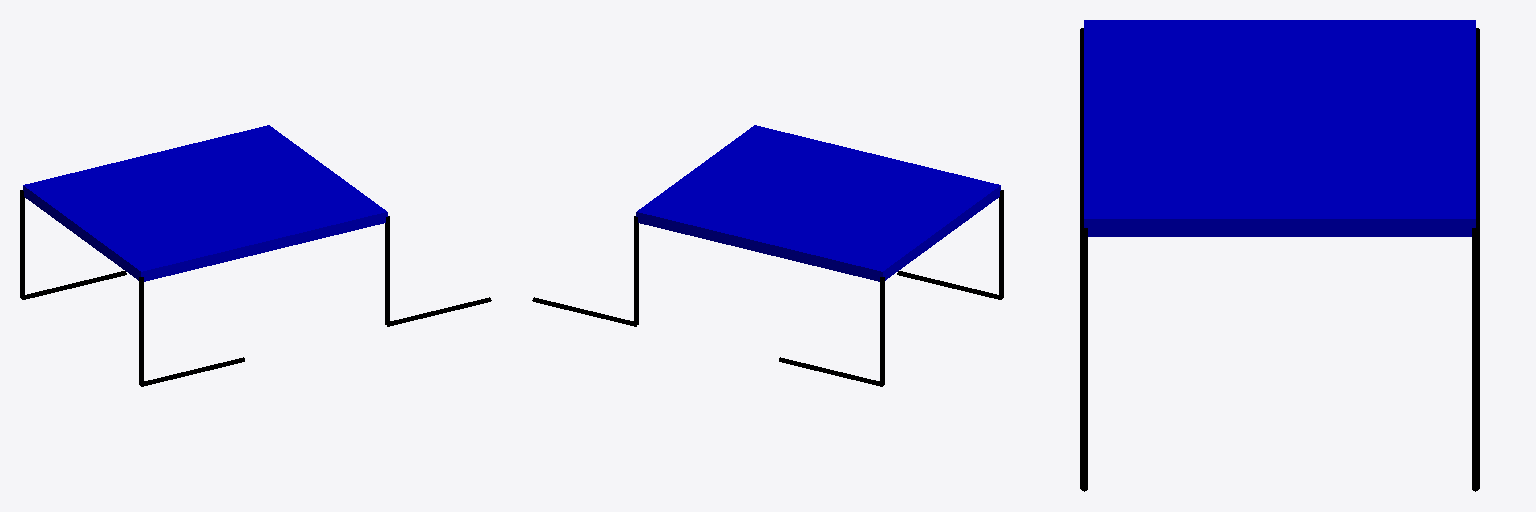
The robot description file, URDF, robot "Nybble":
<?xml version="1.0"?>
<robot name="Nybble">

    <material name="blue">
        <color rgba="0 0 0.8 1"/>
    </material>
    <material name="black">
        <color rgba="0 0 0 1"/>
    </material>

    <link name="torso">       
        <visual>
            <geometry>
                <box size="0.12 0.10 0.005"/>
            </geometry>
            <material name="blue"/>
        </visual>
      
        <collision>
              <geometry>
                    <box size="0.12 0.10 0.005"/>
              </geometry>
              <origin xyz="0 0 0"/>
        </collision>

        <inertial>
              <origin xyz="0 0 0"/>
              <mass value="0.2"/>
              <inertia ixx="0.0002" iyy="0.0003"  izz="0.0004" ixy="0.0" ixz="0.0" iyz="0.0"/>
        </inertial>
    </link>


    <link name="left_upper_arm">
        <visual>
            <origin xyz="0.00 .00 -0.025" rpy="0 0 0" />
            <geometry>
              <cylinder radius="0.001" length="0.05"/>
            </geometry>
            <material name="black"/>
        </visual>

        <collision>
            <geometry>
              <cylinder radius="0.001" length="0.05"/>
            </geometry>
            <origin xyz="0.00 .00 -0.025" rpy="0 0 0" />
        </collision>

        <inertial>
            <origin xyz=".0 .00 0.0" rpy="0 0 0" />
            <mass value="0.025"/>
            <inertia ixx="0.0" ixy="0.0" ixz="0.0" iyy="0.0" iyz="0.0" izz="0.0"/>
        </inertial>
    </link>   

    <link name="right_upper_arm">
            <visual>
                <origin xyz="0.00 .00 -0.025" rpy="0 0 0" />
                <geometry>
                  <cylinder radius="0.001" length="0.05"/>
                </geometry>
                <material name="black"/>
            </visual>

            <collision>
                <geometry>
                  <cylinder radius="0.001" length="0.05"/>
                </geometry>
                <origin xyz="0.00 .00 -0.025" rpy="0 0 0" />
            </collision>

            <inertial>
                <origin xyz=".0 .00 0.0" rpy="0 0 0" />
                <mass value="0.025"/>
                <inertia ixx="0.0" ixy="0.0" ixz="0.0" iyy="0.0" iyz="0.0" izz="0.0"/>
            </inertial>
        </link>   



    <link name="left_lower_arm">
        <visual>
            <origin xyz="0.00 .00 -0.025" rpy="0 0 0" />
            <geometry>
              <cylinder radius="0.001" length="0.05"/>
            </geometry>
            <material name="black"/>
        </visual>

        <collision>
            <geometry>
              <cylinder radius="0.001" length="0.05"/>
            </geometry>
            <origin xyz="0.00 .00 -0.025" rpy="0 0 0" />
        </collision>


        <inertial>
            <origin xyz=".0 .00 0.0" rpy="0 0 0" />
            <mass value="0.075"/>
            <inertia ixx="0.0" ixy="0.0" ixz="0.0" iyy="0.0" iyz="0.0" izz="0.0"/>
        </inertial>
    </link>   




    

    <link name="right_lower_arm">
        <visual>
            <origin xyz="0.00 .00 -0.025" rpy="0 0 0" />
            <geometry>
              <cylinder radius="0.001" length="0.05"/>
            </geometry>
            <material name="black"/>
        </visual>

        <collision>
            <geometry>
              <cylinder radius="0.001" length="0.05"/>
            </geometry>
            <origin xyz="0.00 .00 -0.025" rpy="0 0 0" />
        </collision>

        <inertial>
            <origin xyz=".0 .00 0.0" rpy="0 0 0" />
            <mass value="0.075"/>
            <inertia ixx="0.0" ixy="0.0" ixz="0.0" iyy="0.0" iyz="0.0" izz="0.0"/>
        </inertial>
    </link>   

    <link name="right_upper_leg">
        <visual>
            <origin xyz="0.00 .00 -0.025" rpy="0 0 0" />
            <geometry>
              <cylinder radius="0.001" length="0.05"/>
            </geometry>
            <material name="black"/>
        </visual>

        <collision>
            <geometry>
              <cylinder radius="0.001" length="0.05"/>
            </geometry>
            <origin xyz="0.00 .00 -0.025" rpy="0 0 0" />
        </collision>

        <inertial>
            <origin xyz=".0 .00 0.0" rpy="0 0 0" />
            <mass value="0.025"/>
            <inertia ixx="0.0" ixy="0.0" ixz="0.0" iyy="0.0" iyz="0.0" izz="0.0"/>
        </inertial>
    </link>   

    <link name="right_lower_leg">
        <visual>
            <origin xyz="0.00 .00 -0.025" rpy="0 0 0" />
            <geometry>
              <cylinder radius="0.001" length="0.05"/>
            </geometry>
            <material name="black"/>
        </visual>

        <collision>
            <geometry>
              <cylinder radius="0.001" length="0.05"/>
            </geometry>
            <origin xyz="0.00 .00 -0.025" rpy="0 0 0" />
        </collision>

        <inertial>
            <origin xyz=".0 .00 0.0" rpy="0 0 0" />
            <mass value="0.075"/>
            <inertia ixx="0.0" ixy="0.0" ixz="0.0" iyy="0.0" iyz="0.0" izz="0.0"/>
        </inertial>
    </link>   


    <link name="left_upper_leg">
        <visual>
            <origin xyz="0.00 .00 -0.025" rpy="0 0 0" />
            <geometry>
              <cylinder radius="0.001" length="0.05"/>
            </geometry>
            <material name="black"/>
        </visual>

        <collision>
            <geometry>
              <cylinder radius="0.001" length="0.05"/>
            </geometry>
            <origin xyz="0.00 .00 -0.025" rpy="0 0 0" />
        </collision>

        <inertial>
            <origin xyz=".0 .00 0.0" rpy="0 0 0" />
            <mass value="0.025"/>
            <inertia ixx="0.0" ixy="0.0" ixz="0.0" iyy="0.0" iyz="0.0" izz="0.0"/>
        </inertial>
    </link>   

    <link name="left_lower_leg">
        <visual>
            <origin xyz="0.00 .00 -0.025" rpy="0 0 0" />
            <geometry>
              <cylinder radius="0.001" length="0.05"/>
            </geometry>
            <material name="black"/>
        </visual>

        <collision>
            <geometry>
              <cylinder radius="0.001" length="0.05"/>
            </geometry>
            <origin xyz="0.00 .00 -0.025" rpy="0 0 0" />
        </collision>

        <inertial>
            <origin xyz=".0 .00 0.0" rpy="0 0 0" />
            <mass value="0.075"/>
            <inertia ixx="0.0" ixy="0.0" ixz="0.0" iyy="0.0" iyz="0.0" izz="0.0"/>
        </inertial>
    </link>   




    <joint name="shoulder_left" type="revolute">
          <axis xyz="0 1 0"/>
          <origin xyz="0.06 0.05 0" rpy="0 0 0"/>
          <parent link="torso"/>
          <child link="left_upper_arm"/>
          <limit effort="0" lower="-1.57" upper="1.57" velocity="0"/>
    </joint>

    <joint name="shoulder_right" type="revolute">
          <axis xyz="0 1 0"/>
          <origin xyz="0.06 -0.05 0" rpy="0 0 0"/>
          <parent link="torso"/>
          <child link="right_upper_arm"/>
          <limit effort="0" lower="-1.57" upper="1.57" velocity="0"/>
    </joint>

    <joint name="hip_right" type="revolute">
          <axis xyz="0 1 0"/>
          <origin xyz="-0.06 -0.05 0" rpy="0 0 0"/>
          <parent link="torso"/>
          <child link="right_upper_leg"/>
          <limit effort="0" lower="-1.57" upper="1.57" velocity="0"/>
    </joint>

    <joint name="hip_left" type="revolute">
          <axis xyz="0 1 0"/>
          <origin xyz="-0.06 0.05 0" rpy="0 0 0"/>
          <parent link="torso"/>
          <child link="left_upper_leg"/>
          <limit effort="0" lower="-1.57" upper="1.57" velocity="0"/>
    </joint>

    <joint name="elbow_left" type="revolute">
          <axis xyz="0 1 0"/>
          <origin xyz="0.00 0.00 -0.05" rpy="0 -1.57 0"/>
          <parent link="left_upper_arm"/>
          <child link="left_lower_arm"/>
          <limit effort="0" lower="-1.57" upper="1.57" velocity="0"/>
    </joint>

    <joint name="elbow_right" type="revolute">
          <axis xyz="0 1 0"/>
          <origin xyz="0.00 0.00 -0.05" rpy="0 -1.57 0"/>
          <parent link="right_upper_arm"/>
          <child link="right_lower_arm"/>
          <limit effort="0" lower="-1.57" upper="1.57" velocity="0"/>
    </joint>


    <joint name="knee_right" type="revolute">
          <axis xyz="0 1 0"/>
          <origin xyz="0.00 0.00 -0.05" rpy="0 -1.57 0"/>
          <parent link="right_upper_leg"/>
          <child link="right_lower_leg"/>
          <limit effort="0" lower="-1.57" upper="1.57" velocity="0"/>
    </joint>   

    <joint name="knee_left" type="revolute">
          <axis xyz="0 1 0"/>
          <origin xyz="0.00 0.00 -0.05" rpy="0 -1.57 0"/>
          <parent link="left_upper_leg"/>
          <child link="left_lower_leg"/>
          <limit effort="0" lower="-1.57" upper="1.57" velocity="0"/>
    </joint>    

</robot>

--- What the picture shows (computed from the rendered views, not written in the file) ---
The picture shows the robot from 3 angles, left to right: view 1: azimuth 30°, elevation 25°; view 2: azimuth 150°, elevation 25°; view 3: azimuth 270°, elevation 25°; orthographic projection.
Robot: Nybble — 9 links, 8 joints (8 revolute); root link torso; default pose: all joints at 0.
Links seen in each view (by area): view 1: torso, right_upper_leg, right_upper_arm, left_upper_leg; view 2: torso, left_upper_leg, left_upper_arm, right_upper_leg; view 3: torso, left_upper_arm, right_upper_arm, right_upper_leg, left_upper_leg, left_lower_arm, right_lower_arm.
Boxes of the visible links, x1,y1,x2,y2 form: torso: (23, 125, 387, 281); right_upper_leg: (139, 277, 143, 385); right_upper_arm: (385, 216, 389, 325); left_upper_leg: (20, 190, 24, 298); torso: (636, 125, 1000, 281); left_upper_leg: (880, 277, 884, 385); left_upper_arm: (634, 216, 638, 325); right_upper_leg: (999, 190, 1003, 298); torso: (1084, 20, 1475, 236); left_upper_arm: (1472, 226, 1479, 404); right_upper_arm: (1080, 226, 1087, 404); right_upper_leg: (1080, 28, 1083, 205); left_upper_leg: (1476, 28, 1479, 205); left_lower_arm: (1472, 403, 1479, 491); right_lower_arm: (1080, 403, 1087, 491).
Bounding box of the posed robot: 0.171 × 0.102 × 0.0535 m (x, y, z).
Geometry: primitives only (box / cylinder / sphere), no mesh files.